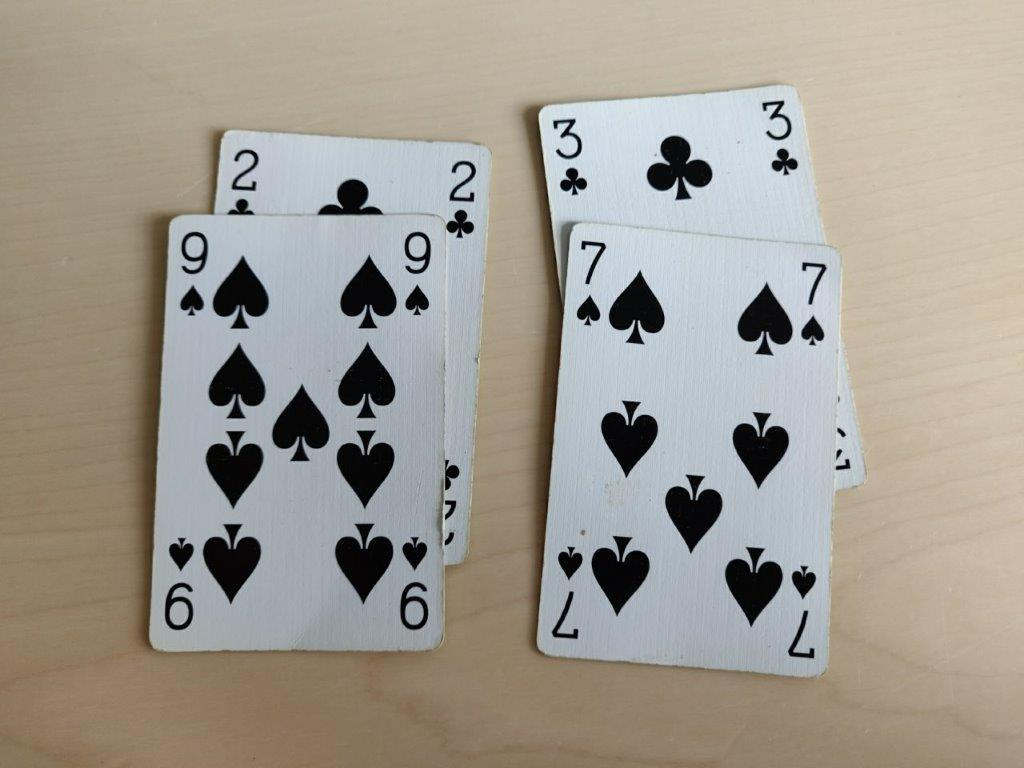2C: (442, 149, 484, 244)
3C: (752, 93, 805, 183), (545, 107, 593, 202)
7S: (791, 249, 837, 349), (568, 234, 612, 326)
9S: (168, 219, 216, 323)
